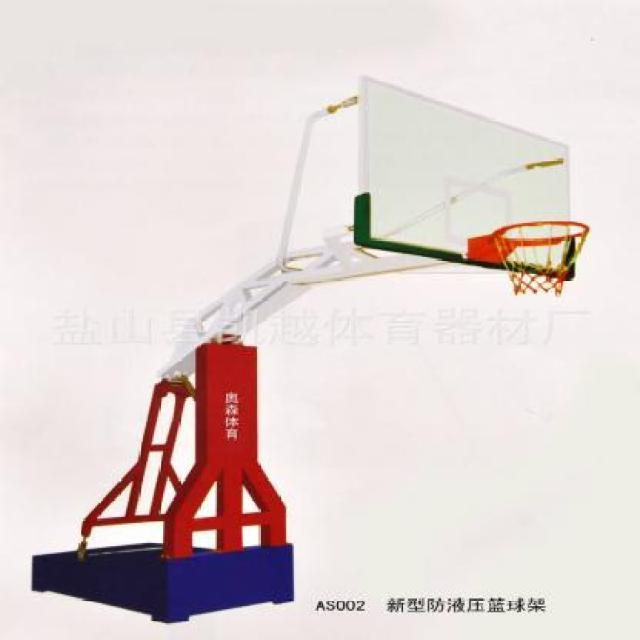rim: (492, 220, 592, 296)
